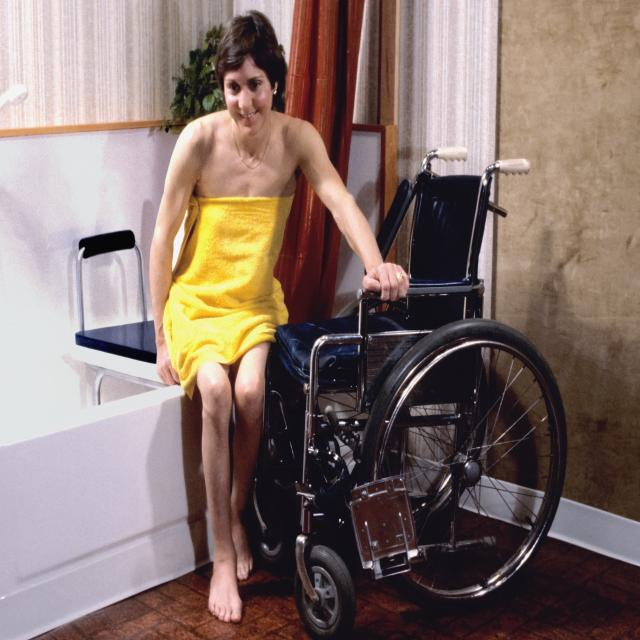wheelchairs: (269, 152, 570, 630)
